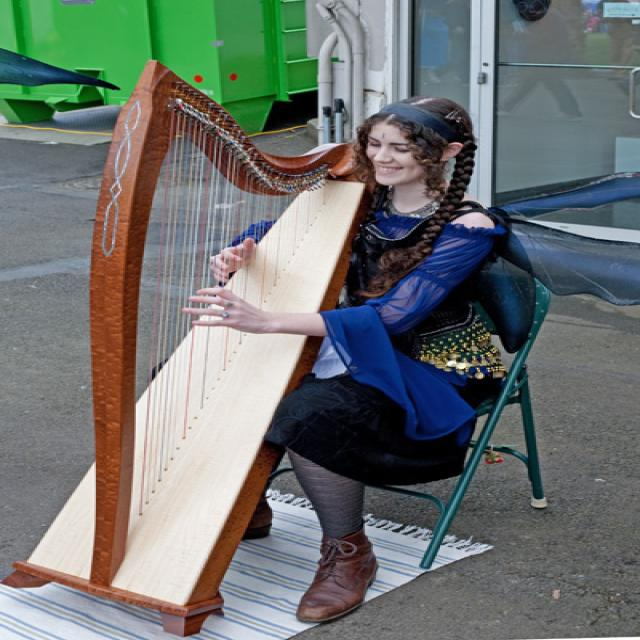harp: (1, 59, 375, 639)
